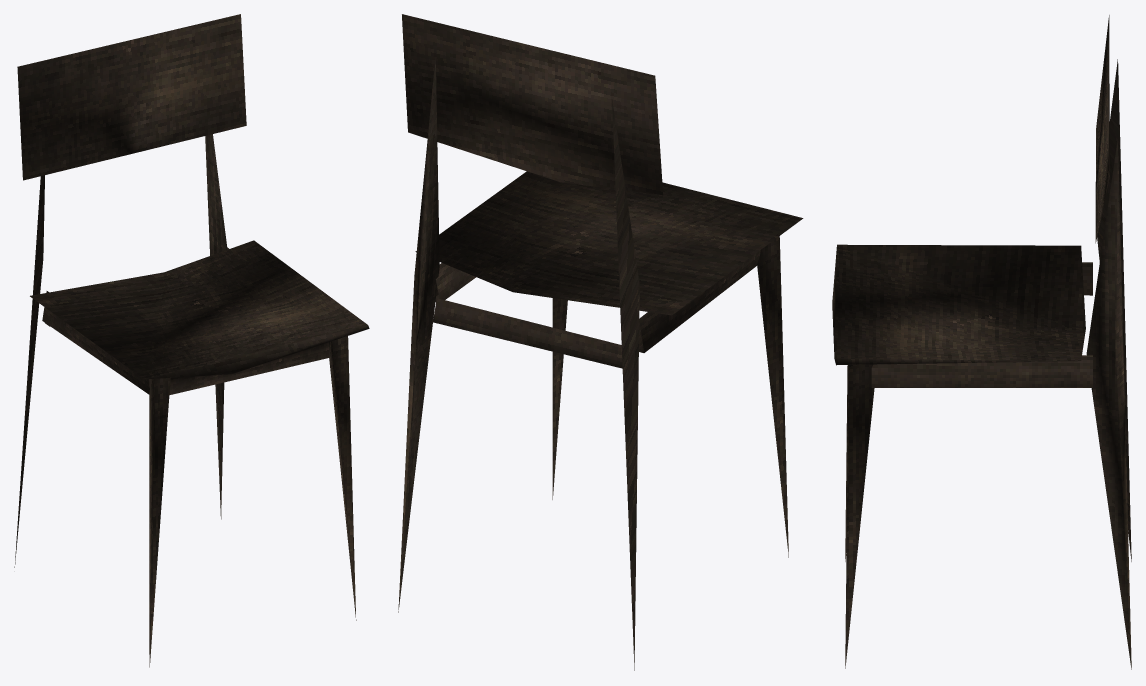
File: chair_mp_3_2.glb
3 views of the same model, side by side, from view 1: azimuth 30°, elevation 25°; view 2: azimuth 150°, elevation 25°; view 3: azimuth 270°, elevation 25° (orthographic). The views are drawn at different scales.
Parts seen in each view (by area): view 1: chair_mp_3_2; view 2: chair_mp_3_2; view 3: chair_mp_3_2.
Part boxes in pixels (<box>): chair_mp_3_2: <box>14,14,369,667</box>; chair_mp_3_2: <box>398,14,803,670</box>; chair_mp_3_2: <box>832,15,1131,669</box>.
Bounding box in the file's own units: 0.4525 × 0.9922 × 0.4924.
1 material, 1 textured.
